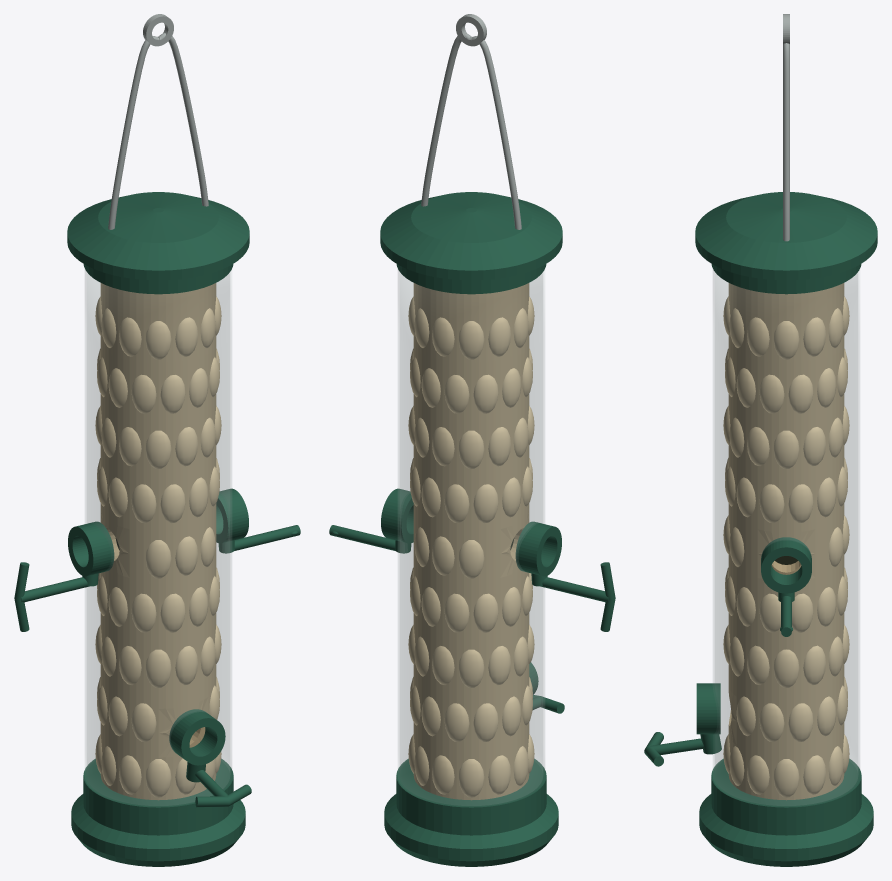
File: A-NEW-20261026-CYLINDER-BIRD-FEEDER-001_LOD0_R4.glb
3 views of the same model, side by side, from view 1: azimuth 30°, elevation 25°; view 2: azimuth 150°, elevation 25°; view 3: azimuth 270°, elevation 25° (orthographic).
Parts seen in each view (by area): view 1: reservoir tube, simplified internal seed volume, domed top cap, lower green cup, front open feed collar, left open feed collar, right open feed collar, left bail leg, right bail leg, embedded seed 06 08, embedded seed 02 08, embedded seed 08 08 (+29 smaller); view 2: reservoir tube, simplified internal seed volume, domed top cap, lower green cup, left open feed collar, right open feed collar, left bail leg, right bail leg, embedded seed 06 04, embedded seed 02 04, embedded seed 08 04, embedded seed 04 04 (+30 smaller); view 3: reservoir tube, simplified internal seed volume, domed top cap, lower green cup, right open feed collar, right bail leg, front open feed collar, embedded seed 02 00, embedded seed 06 00, embedded seed 08 00, embedded seed 00 00, embedded seed 01 00 (+34 smaller).
Part boxes in pixels (box(x1,y1,x2,y2)): reservoir tube: box(85, 270, 231, 805); simplified internal seed volume: box(100, 283, 216, 800); domed top cap: box(67, 192, 249, 294); lower green cup: box(71, 759, 245, 866); front open feed collar: box(169, 709, 225, 765); left open feed collar: box(68, 521, 114, 576); right open feed collar: box(216, 488, 248, 543); left bail leg: box(108, 36, 159, 229); right bail leg: box(158, 33, 208, 206); embedded seed 06 08: box(145, 430, 171, 469); embedded seed 02 08: box(145, 649, 171, 687); embedded seed 08 08: box(145, 321, 171, 359); reservoir tube: box(398, 270, 544, 805); simplified internal seed volume: box(413, 283, 529, 800); domed top cap: box(380, 192, 562, 294); lower green cup: box(384, 759, 558, 866); left open feed collar: box(515, 521, 561, 576); right open feed collar: box(381, 488, 413, 543); left bail leg: box(470, 36, 521, 229); right bail leg: box(421, 33, 471, 206); embedded seed 06 04: box(458, 430, 484, 469); embedded seed 02 04: box(458, 649, 484, 687); embedded seed 08 04: box(458, 321, 484, 359); embedded seed 04 04: box(458, 540, 484, 578); reservoir tube: box(713, 270, 859, 805); simplified internal seed volume: box(728, 283, 844, 800); domed top cap: box(695, 192, 877, 294); lower green cup: box(699, 759, 873, 866); right open feed collar: box(761, 537, 811, 593); right bail leg: box(783, 43, 789, 241); front open feed collar: box(696, 683, 720, 734); embedded seed 02 00: box(773, 649, 799, 687); embedded seed 06 00: box(773, 430, 799, 468); embedded seed 08 00: box(773, 321, 799, 359); embedded seed 00 00: box(773, 759, 799, 797); embedded seed 01 00: box(788, 703, 813, 741).
Size of the model in its own units: 0.2435 by 0.672 by 0.174.
